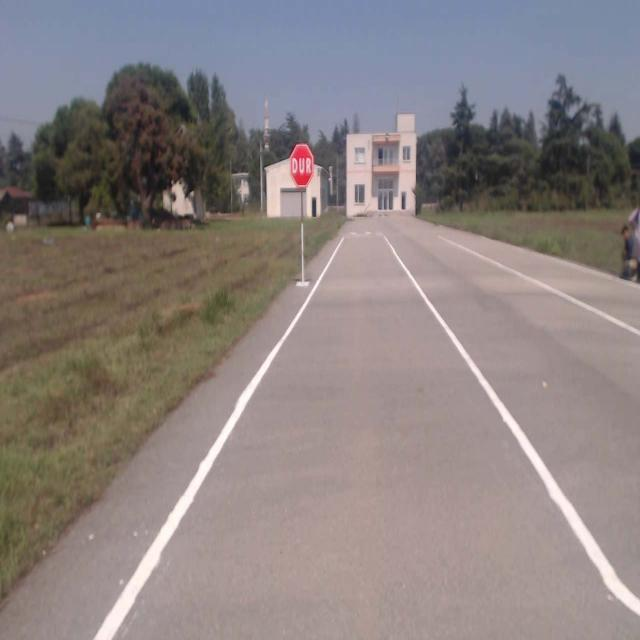dur: (289, 146, 313, 186)
